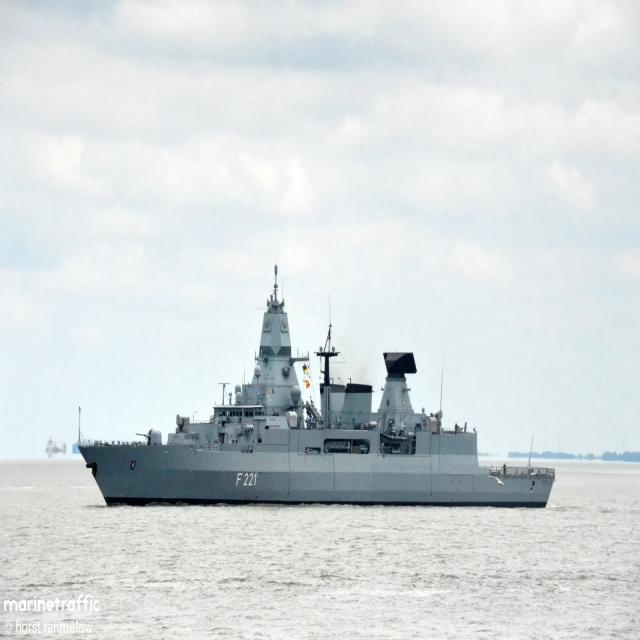Military: (79, 266, 555, 507)
